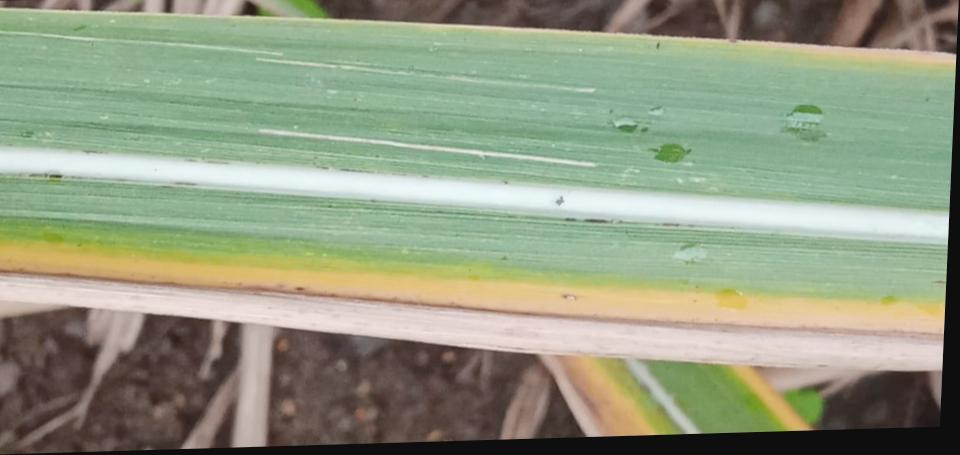Rust: (183, 157, 231, 166), (583, 217, 626, 225), (337, 167, 377, 175), (28, 171, 64, 179), (561, 292, 578, 301), (81, 150, 111, 155), (172, 181, 199, 186), (564, 215, 579, 224), (661, 221, 681, 227), (313, 165, 331, 171), (293, 285, 306, 291)
Yellow: (0, 245, 944, 371), (557, 356, 658, 436), (727, 364, 811, 430)
